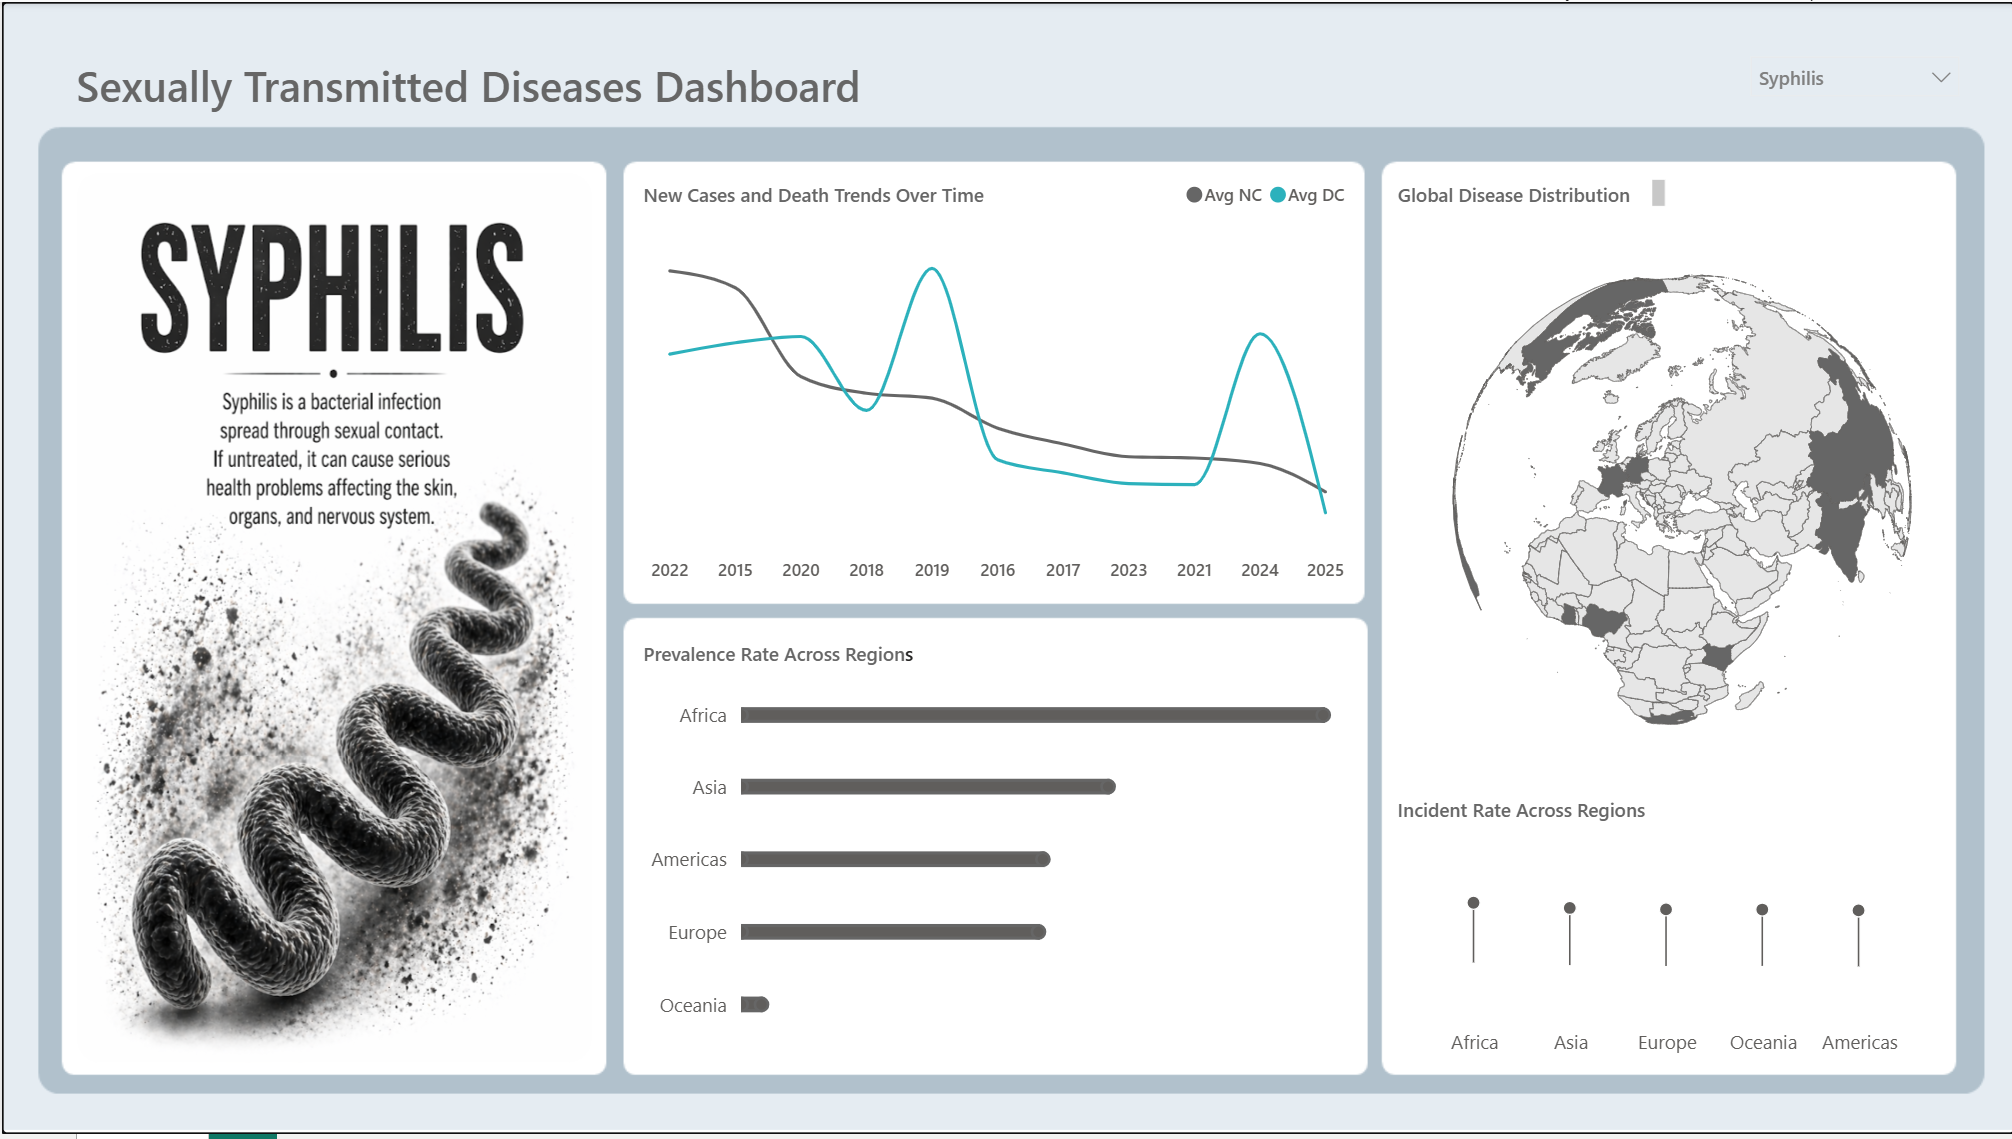

The page's visual inventory and layout, read from the dashboard file:
{"tool":"powerbi","page":{"name":"Page 1","canvas":[1280,720],"ordinal":0},"visuals":[{"type":"slicer","fields":{"Values":["Health Image Dataset.Disease"]},"box":[1101.5,24.6,153,49.8],"z":0},{"type":"imageDB603108E3FF4EBFB8047F5653368E8C","fields":{"imageUrl":["Health Image Dataset.Image URL"]},"box":[41.8,103.8,337.3,576.2],"z":1000},{"type":"lineChart","fields":{"Category":["Health Dataset.Year"],"Y":["Avg(Health Dataset.New_Cases)"],"Y2":["Avg(Health Dataset.Deaths)"]},"box":[402.4,103.8,460.1,275.8],"z":2000},{"type":"textbox","box":[402.4,108.1,245.1,35],"z":3000},{"type":"clusteredBarChart","fields":{"Category":["Health Dataset.Region"],"Y":["Avg(Health Dataset.Prevalence_Rate)"]},"box":[402.4,403.6,460.1,276.5],"z":4000},{"type":"textbox","box":[402.4,399.3,184.3,31.3],"z":5000},{"type":"textbox","box":[41.8,30.1,689.9,49.8],"z":6000},{"type":"shapeMap","fields":{"Category":["Health Dataset.Country"]},"box":[900.6,125.9,333.6,380.9],"z":7000},{"type":"textbox","box":[882.2,108.1,180,27],"z":8000},{"type":"clusteredColumnChart","fields":{"Category":["Health Dataset.Region"],"Y":["Avg(Health Dataset.Incidence_Rate)"]},"box":[882.2,541.8,352.6,138.2],"z":9000},{"type":"textbox","box":[882.2,499.5,299.8,35],"z":10000}]}

Visuals, with their boxes in screenshot pixels (x1, y1, x2, y2), scaled from the page's 1280x720 canvas onto the 2012x1139 screenshot:
slicer - Health Image Dataset.Disease: [1731,39,1972,118]
imageDB603108E3FF4EBFB8047F5653368E8C - Health Image Dataset.Image URL: [66,164,596,1076]
lineChart - Health Dataset.Year x Avg(Health Dataset.New_Cases): [633,164,1356,601]
textbox: [633,171,1018,226]
clusteredBarChart - Health Dataset.Region x Avg(Health Dataset.Prevalence_Rate): [633,638,1356,1076]
textbox: [633,632,922,681]
textbox: [66,48,1150,126]
shapeMap - Health Dataset.Country: [1416,199,1940,802]
textbox: [1387,171,1670,214]
clusteredColumnChart - Health Dataset.Region x Avg(Health Dataset.Incidence_Rate): [1387,857,1941,1076]
textbox: [1387,790,1858,846]
